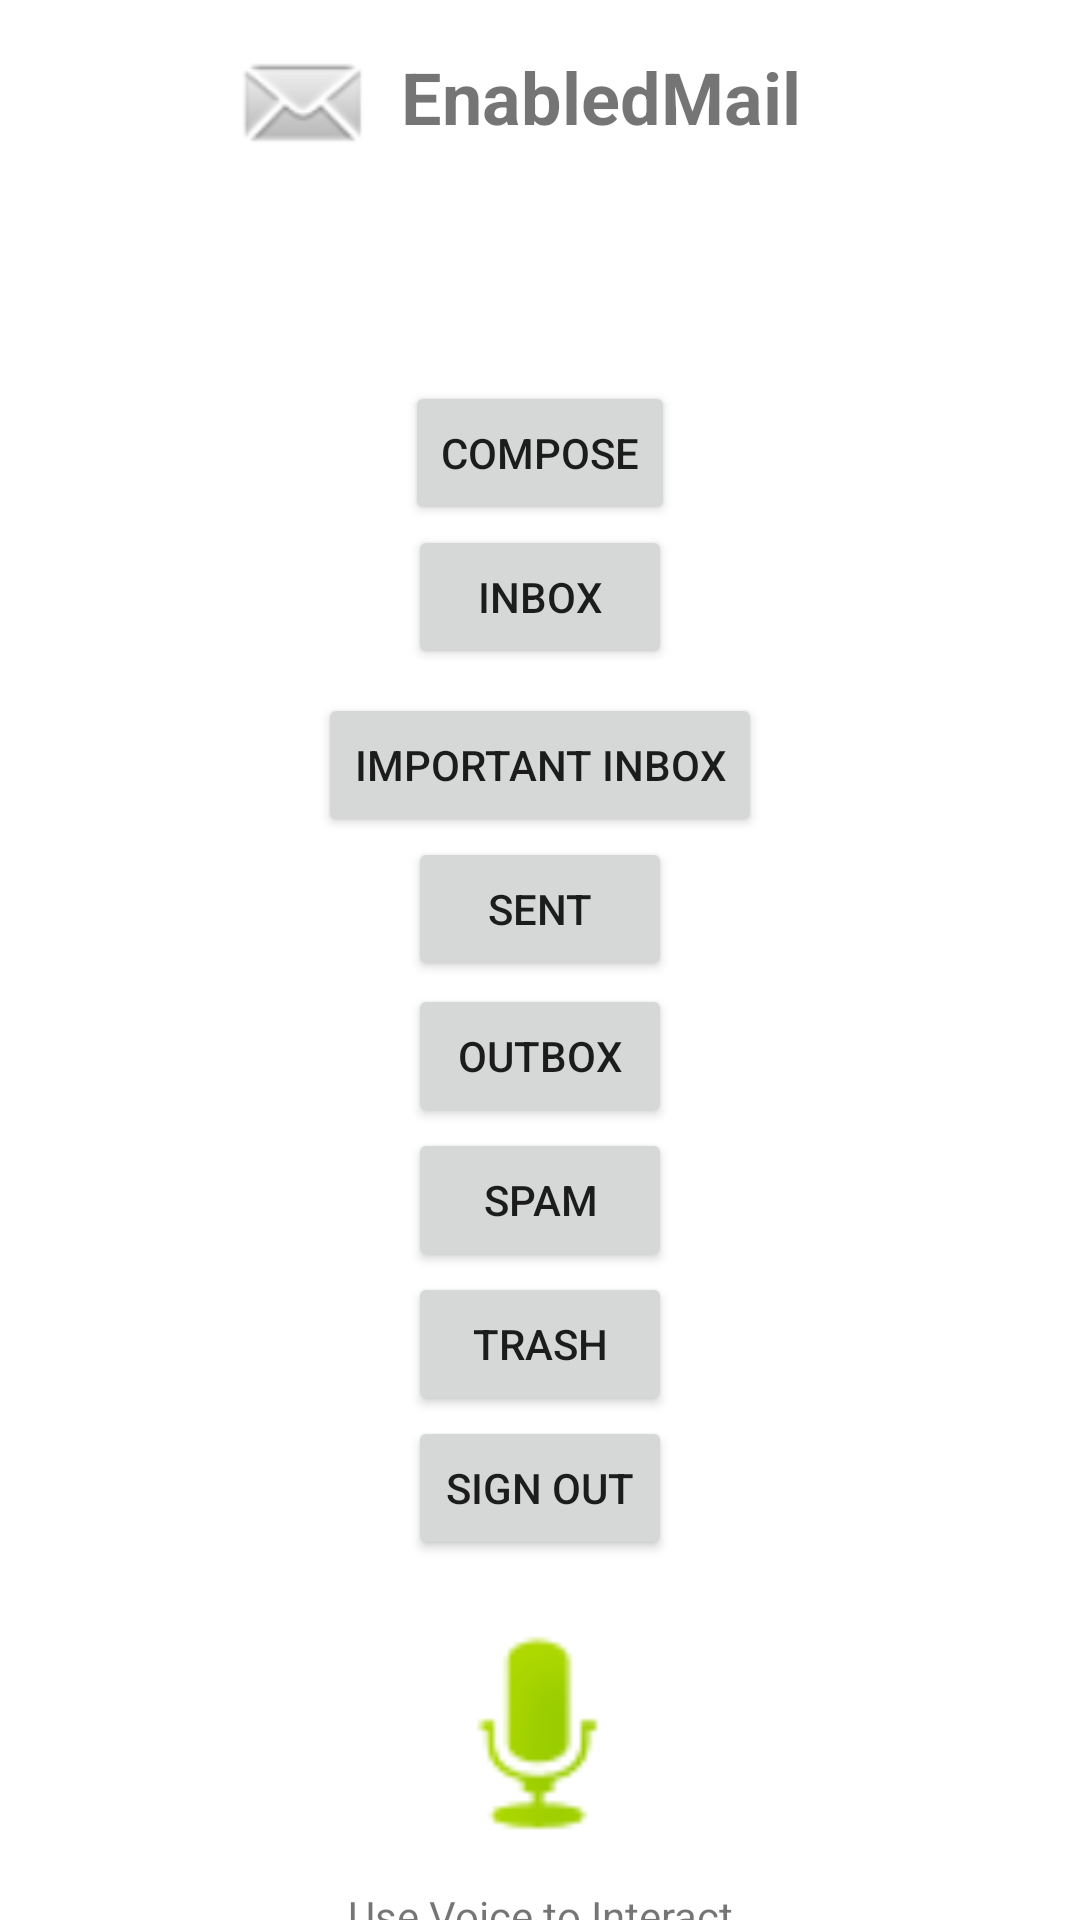

Icons on this 1080 × 1920 Android screen, each with its box as region(x1, y1, x2, y2):
presence audio online: region(477, 1637, 598, 1830)
sym action email: region(245, 64, 361, 141)
